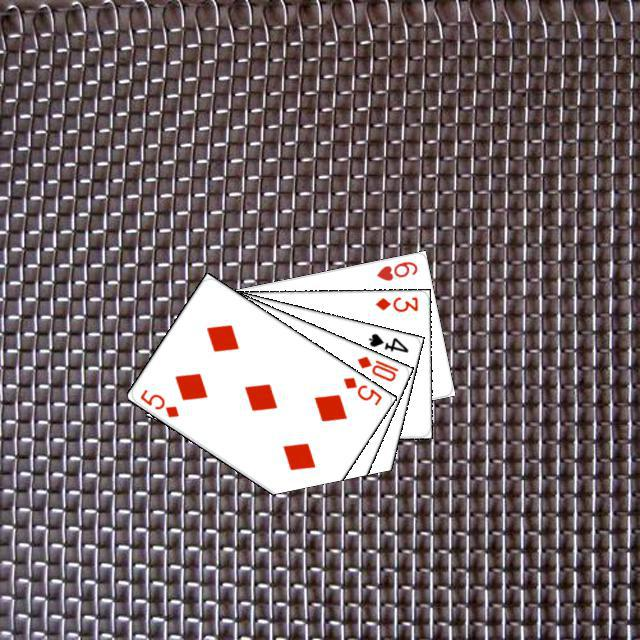10d: (352, 351, 400, 383)
3d: (371, 292, 420, 313)
4s: (363, 328, 410, 354)
5d: (338, 372, 384, 407), (135, 384, 181, 419)
6h: (372, 256, 419, 282)
